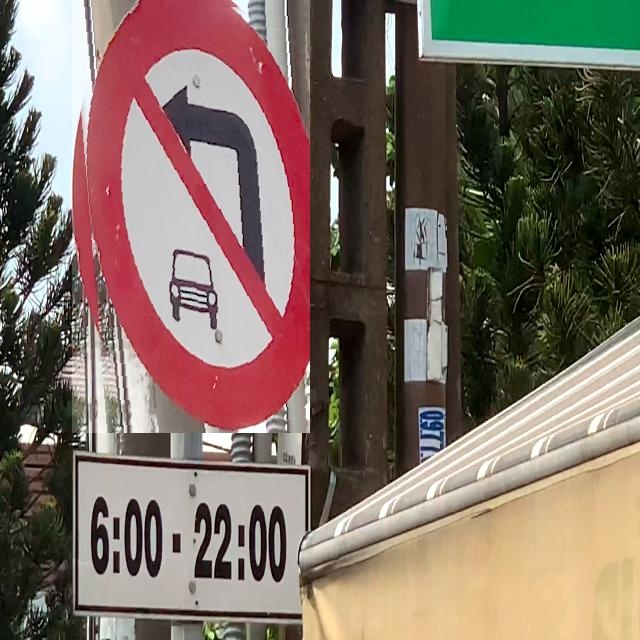bien_cam: (72, 0, 310, 433)
